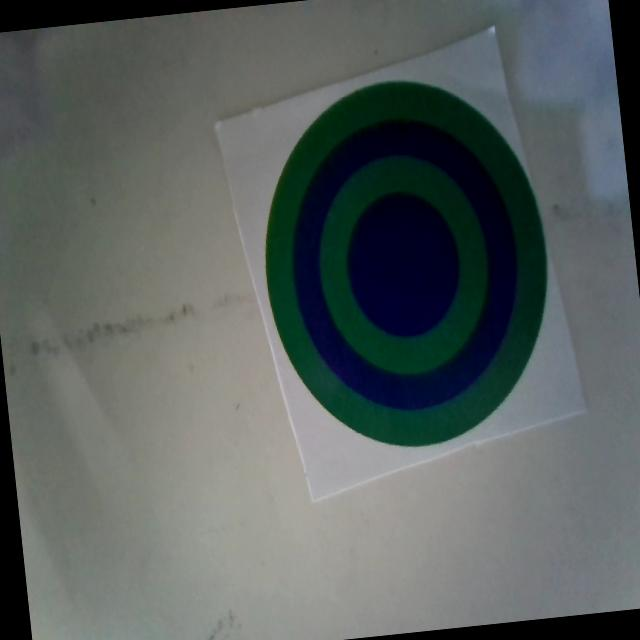cogn: (246, 66, 564, 459)
